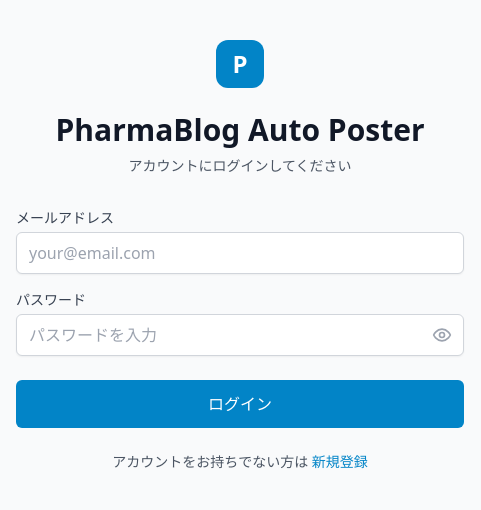
Test case: Authentication › LoginPage › validates required fields
The image size is (481, 510).
What coordinates should you click on to do the following:
click the button "ログイン"
I would click on:
 (240, 404)
Its box is [16, 380, 464, 428].
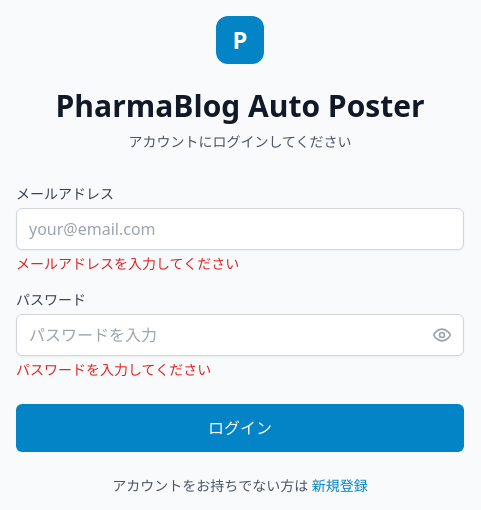
Check: the text "メールアドレスを入力してください" is shown, box [16, 254, 239, 273]
Check: the text "パスワードを入力してください" is shown, box [16, 360, 211, 379]
